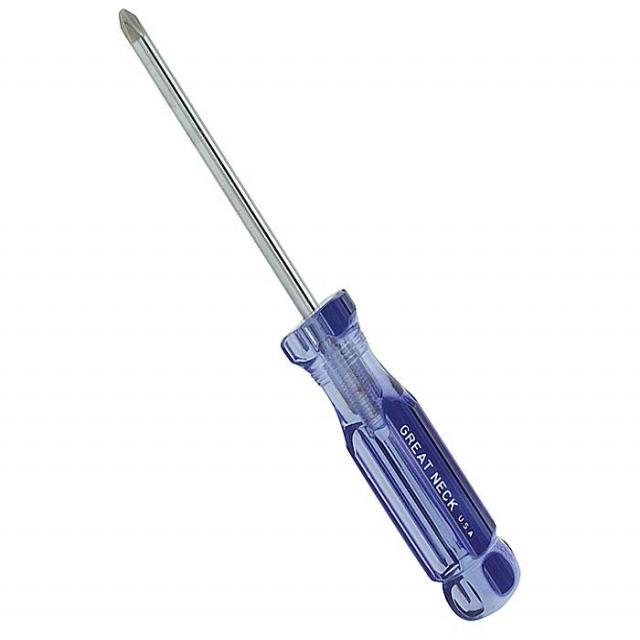screwdriver: (102, 1, 526, 626)
